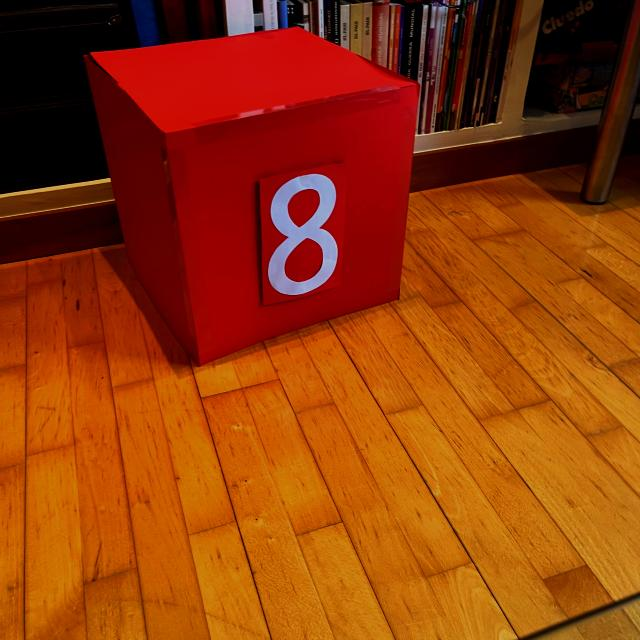box: (81, 24, 422, 367)
